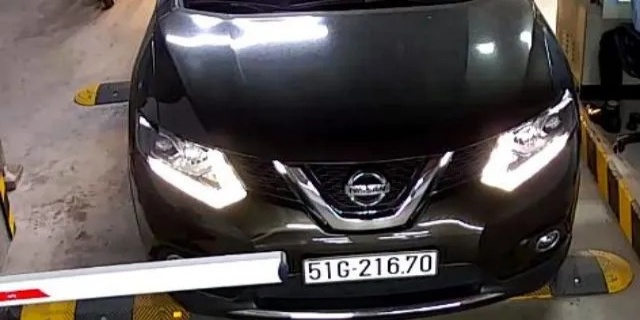bien_so: (304, 256, 437, 280)
